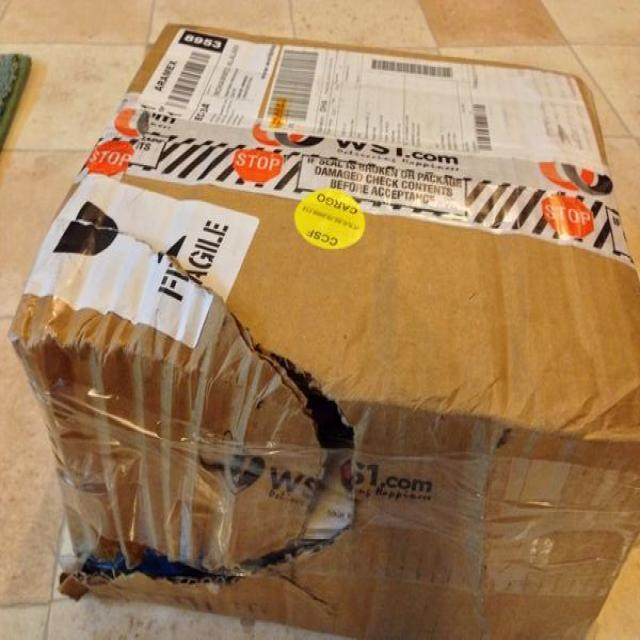damaged: (238, 344, 369, 579)
